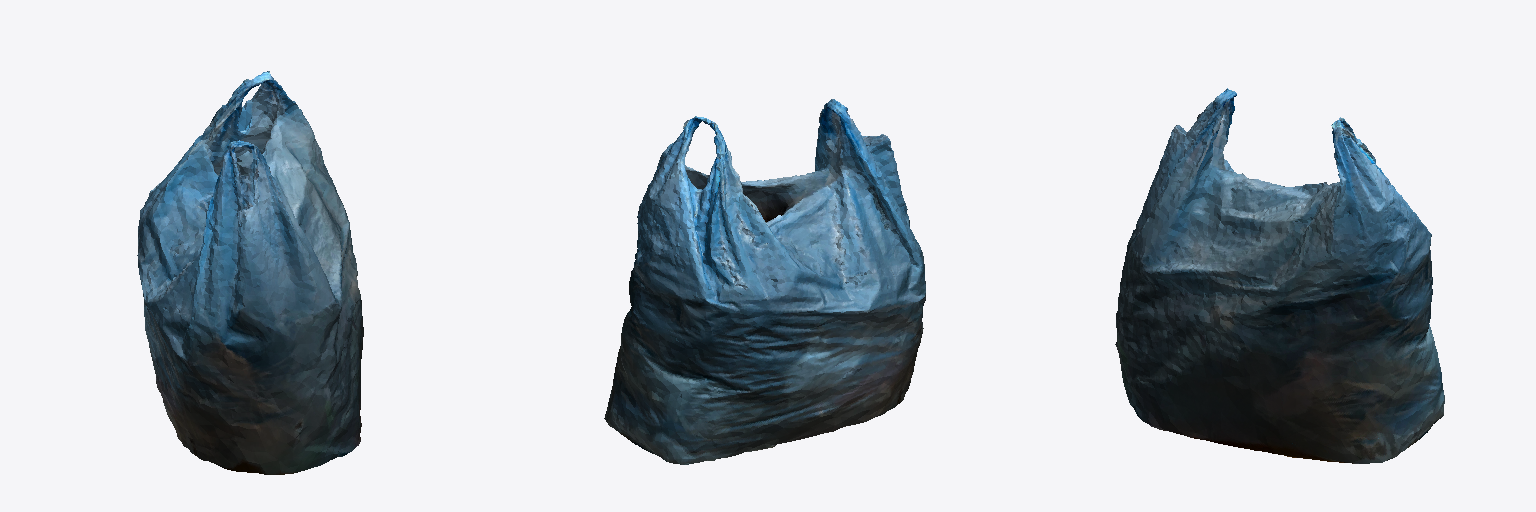
3 views of the same model, side by side, from view 1: azimuth 30°, elevation 25°; view 2: azimuth 150°, elevation 25°; view 3: azimuth 270°, elevation 25° (orthographic).
Parts seen in each view (by area): view 1: Object_0; view 2: Object_0; view 3: Object_0.
Boxes of the visible parts, x1,y1,x2,y2 form: Object_0: [137, 71, 363, 474]; Object_0: [604, 99, 925, 464]; Object_0: [1115, 88, 1444, 463].
Size of the model in its own units: 0.5908 by 0.7433 by 0.7305.
1 materials, 1 textured.